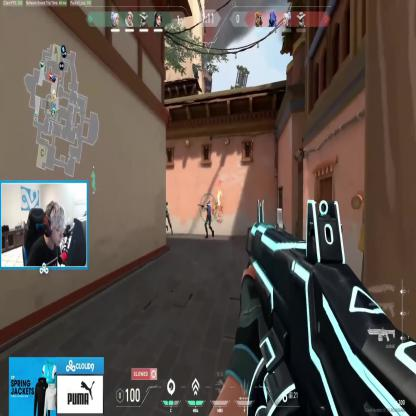enemy: (202, 198, 215, 238), (161, 194, 172, 235)
enemy_head: (206, 199, 210, 206)
